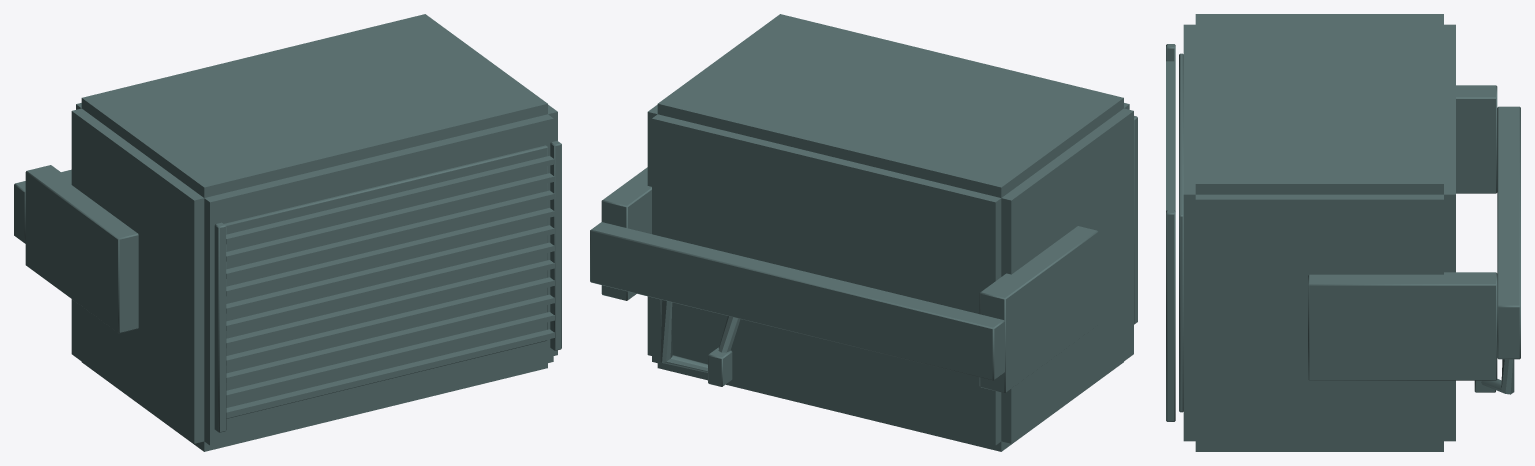
The model's file is OBJ-065_AltavozMegafonia.fbx.
3 renders of one model, left to right at view 1: azimuth 30°, elevation 25°; view 2: azimuth 150°, elevation 25°; view 3: azimuth 270°, elevation 25°, orthographic.
Parts seen in each view (by area): view 1: GEO-OBJ-065_AltavozMegafonia; view 2: GEO-OBJ-065_AltavozMegafonia; view 3: GEO-OBJ-065_AltavozMegafonia.
Part boxes in pixels (x1,y1,x2,y2): GEO-OBJ-065_AltavozMegafonia: [14, 14, 561, 451]; GEO-OBJ-065_AltavozMegafonia: [590, 14, 1137, 451]; GEO-OBJ-065_AltavozMegafonia: [1166, 14, 1520, 451].
Bounding box in the file's own units: 0.4 × 0.25 × 0.3.
